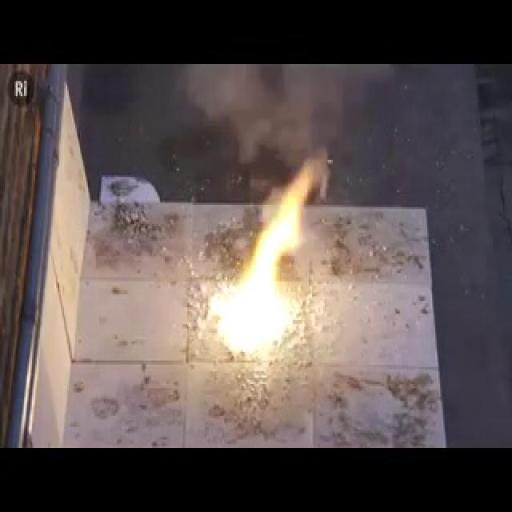smoke: (204, 156, 303, 365)
